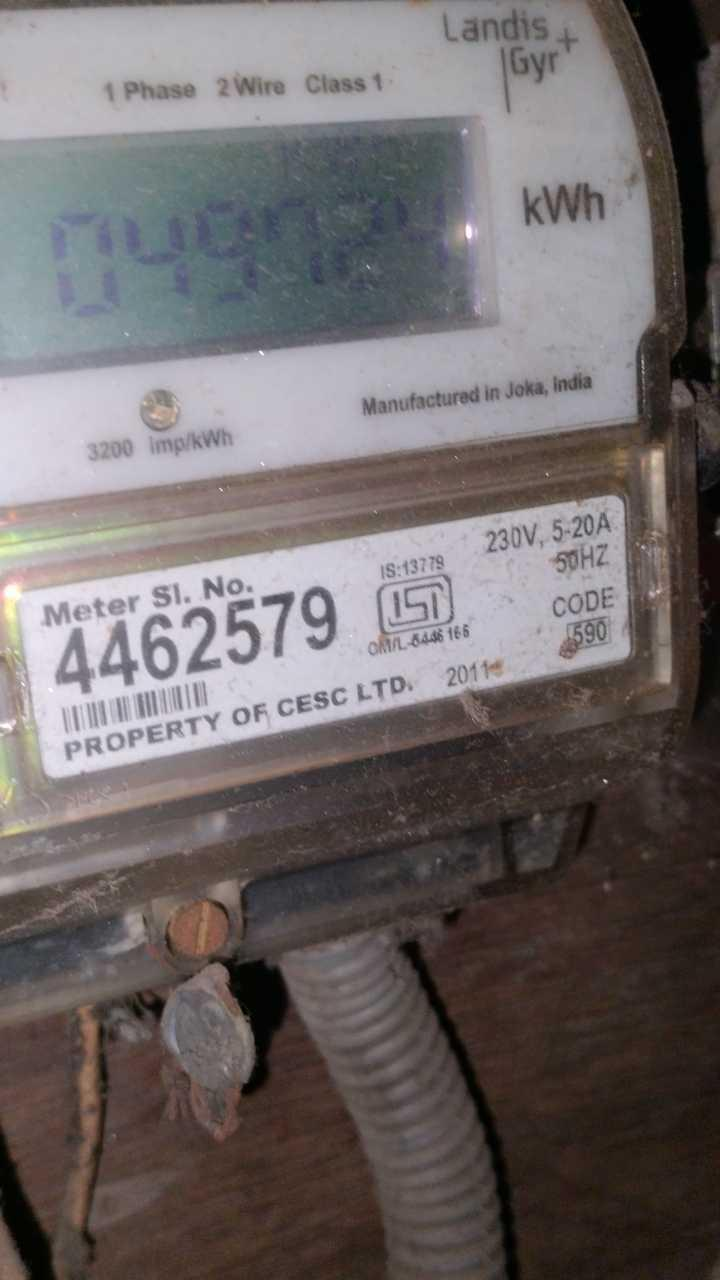meter_readings: (32, 178, 478, 332)
serial_number: (47, 581, 344, 704)
